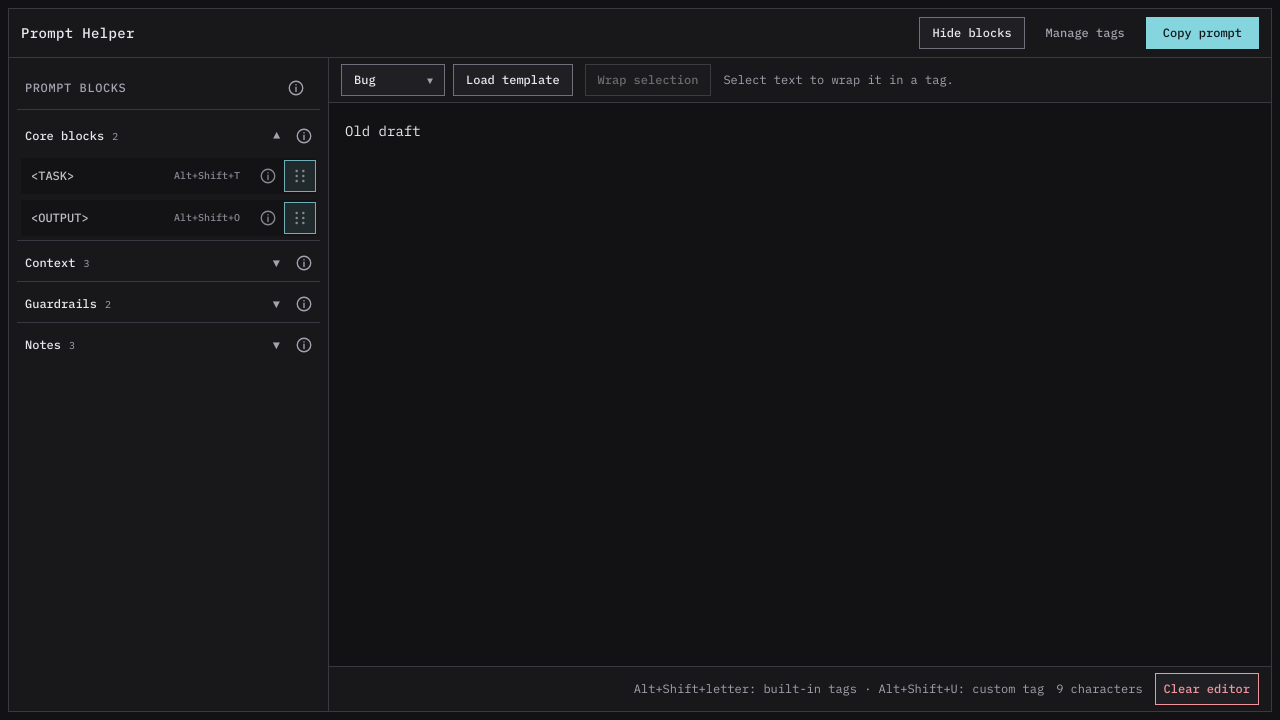
Test: Prompt Helper › confirms Bug replacement and focuses inside Task
Select "Bug" in the dropdown named "Prompt template" at [393, 80], box [341,64,445,96]
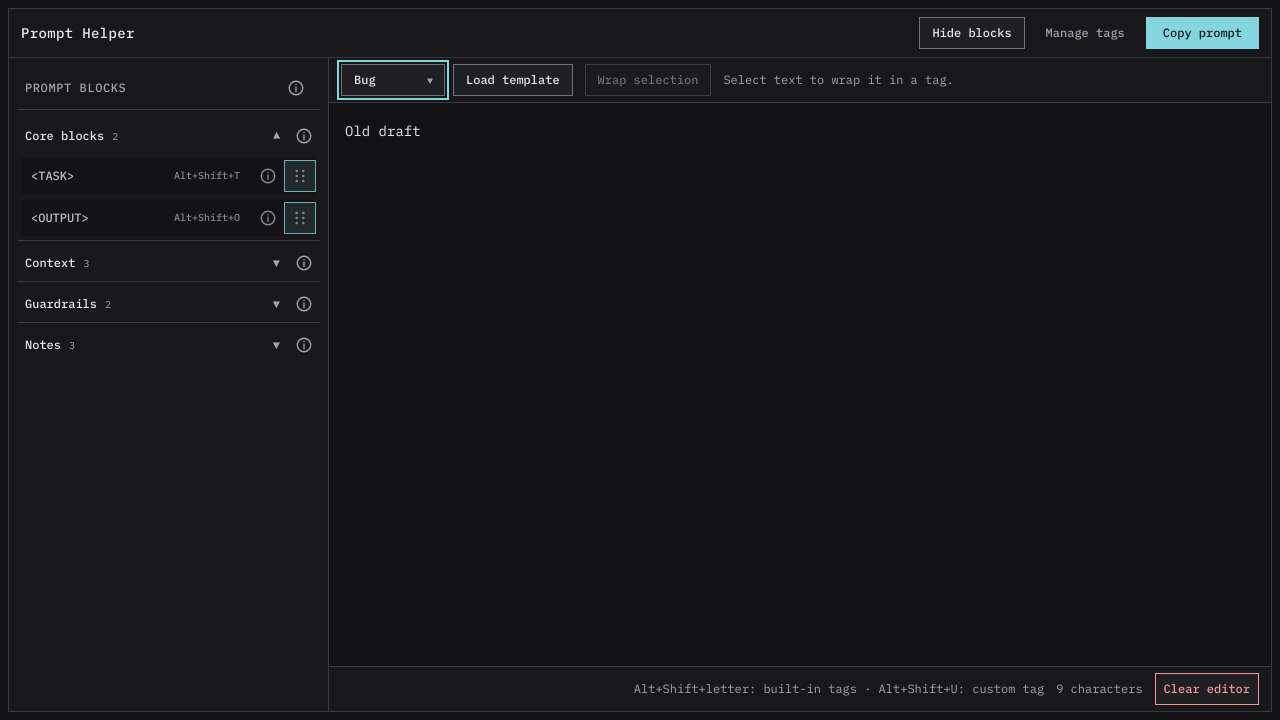
Click the button "Load template".
click(513, 80)  # box [453,64,573,96]
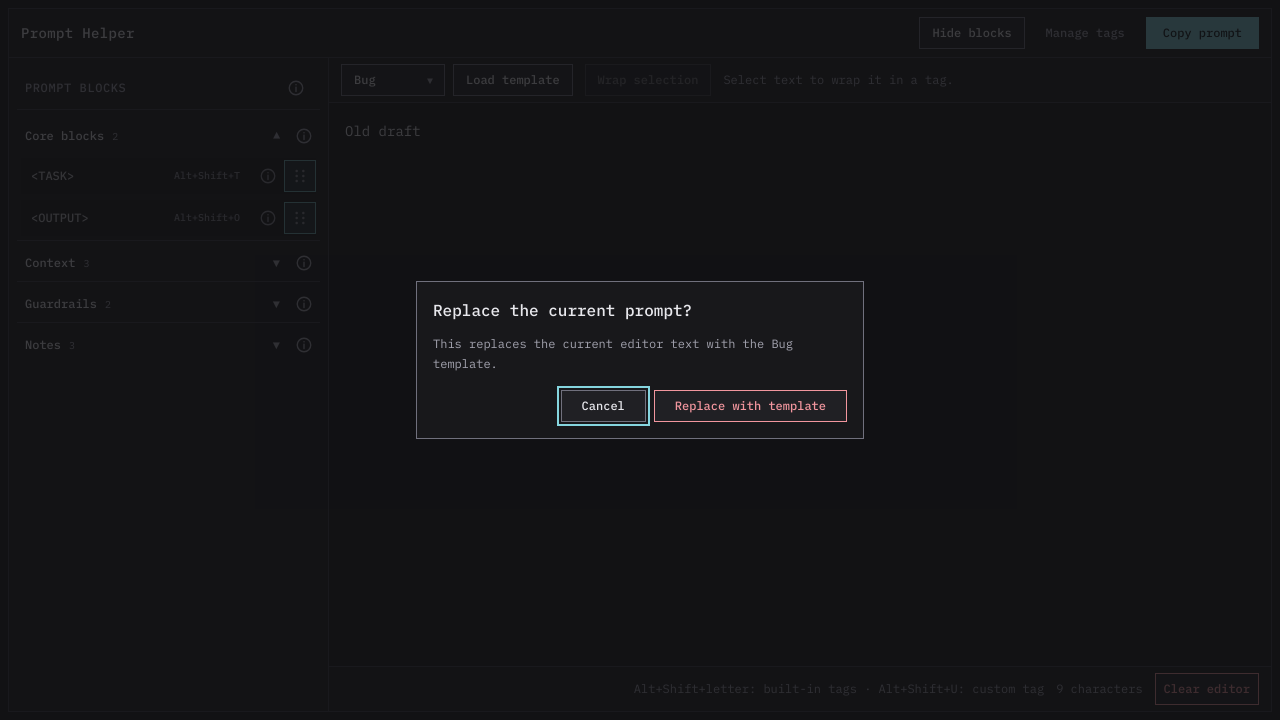
Check: the text box named "Prompt editor" holds "Old draft", box [329,103,1271,666]
Click the button "Replace with template".
click(750, 406)  # box [654,390,847,422]
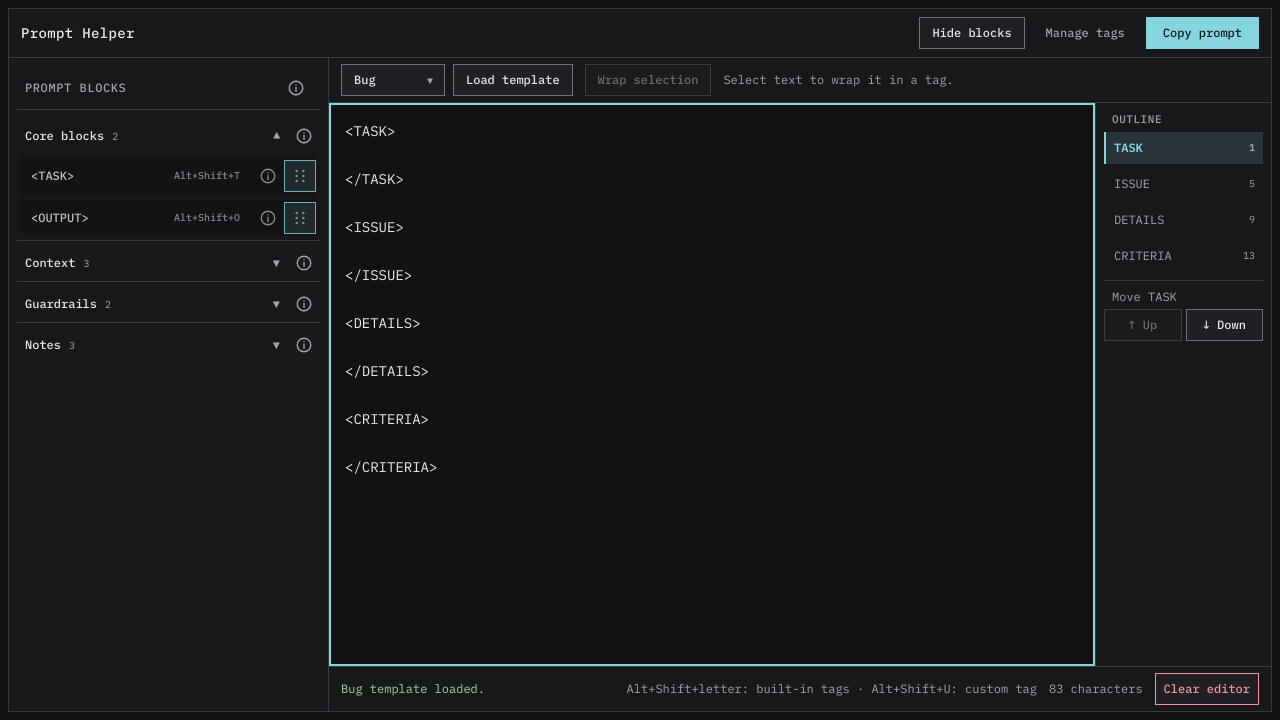
Check: the heading "Replace the current prompt?" is gone
Click the button "Load template".
click(513, 80)  # box [453,64,573,96]
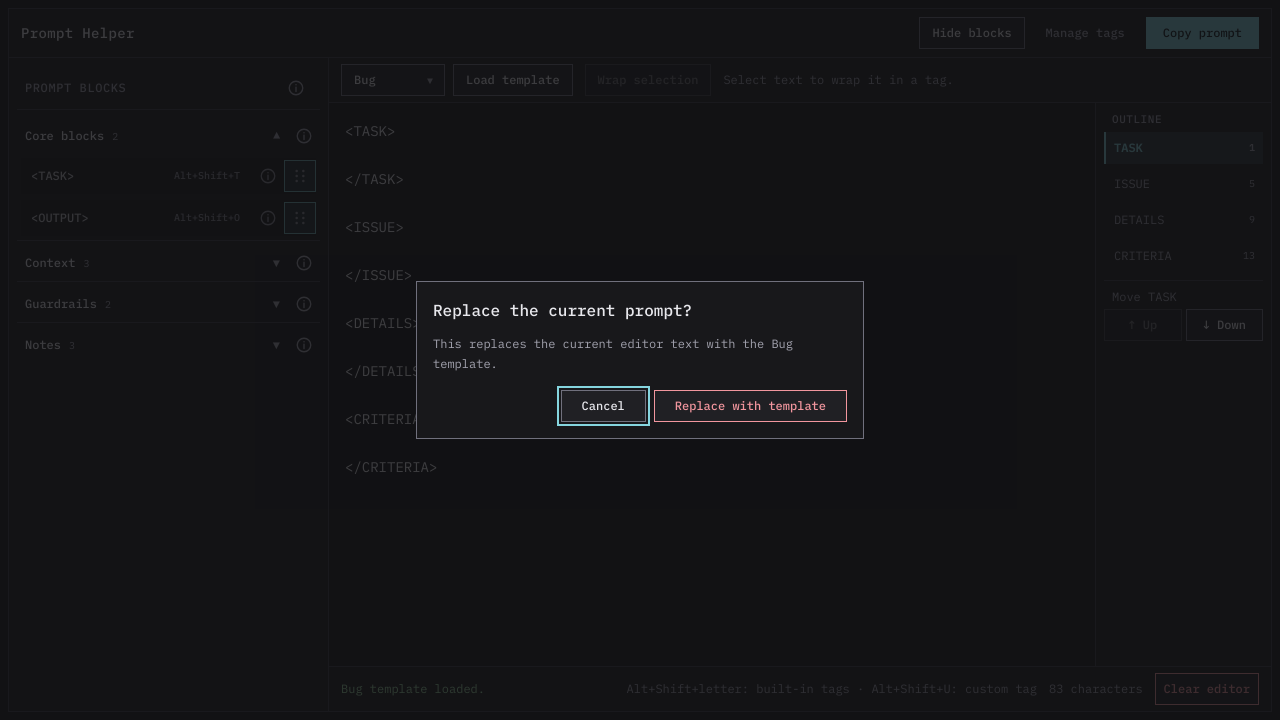
Click the button "Replace with template".
click(750, 406)  # box [654,390,847,422]
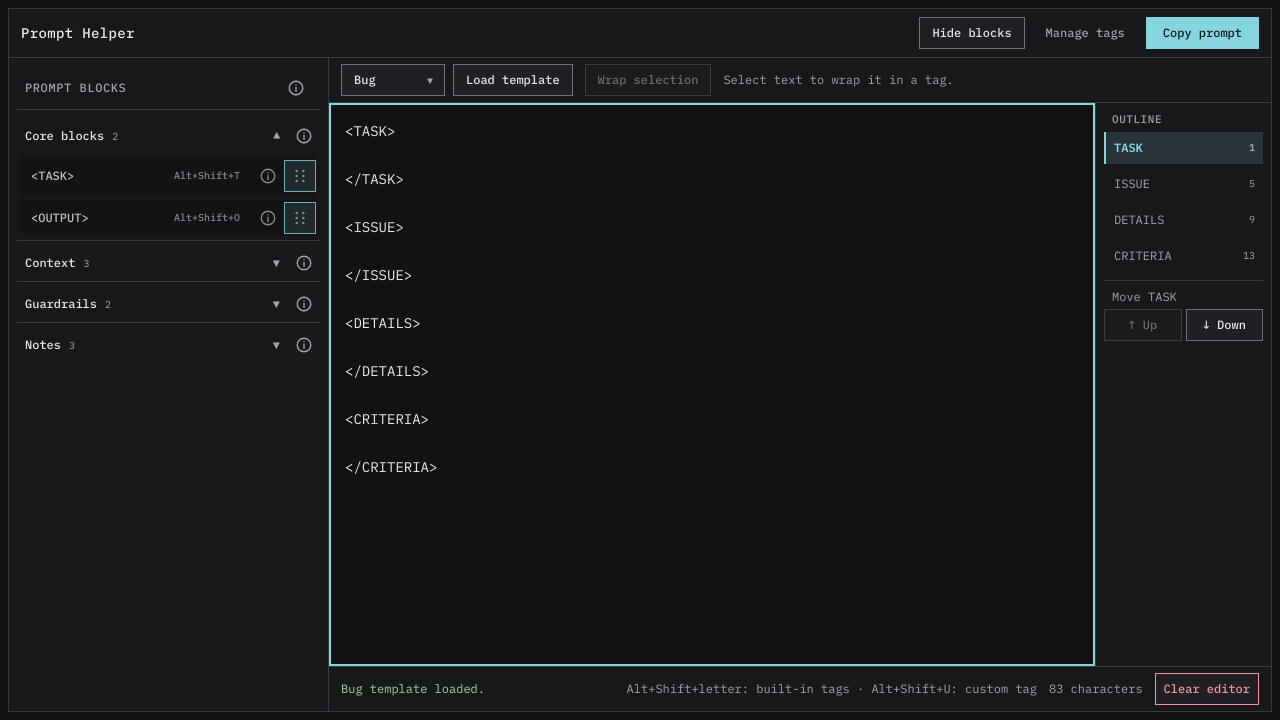
Check: the heading "Replace the current prompt?" is gone
